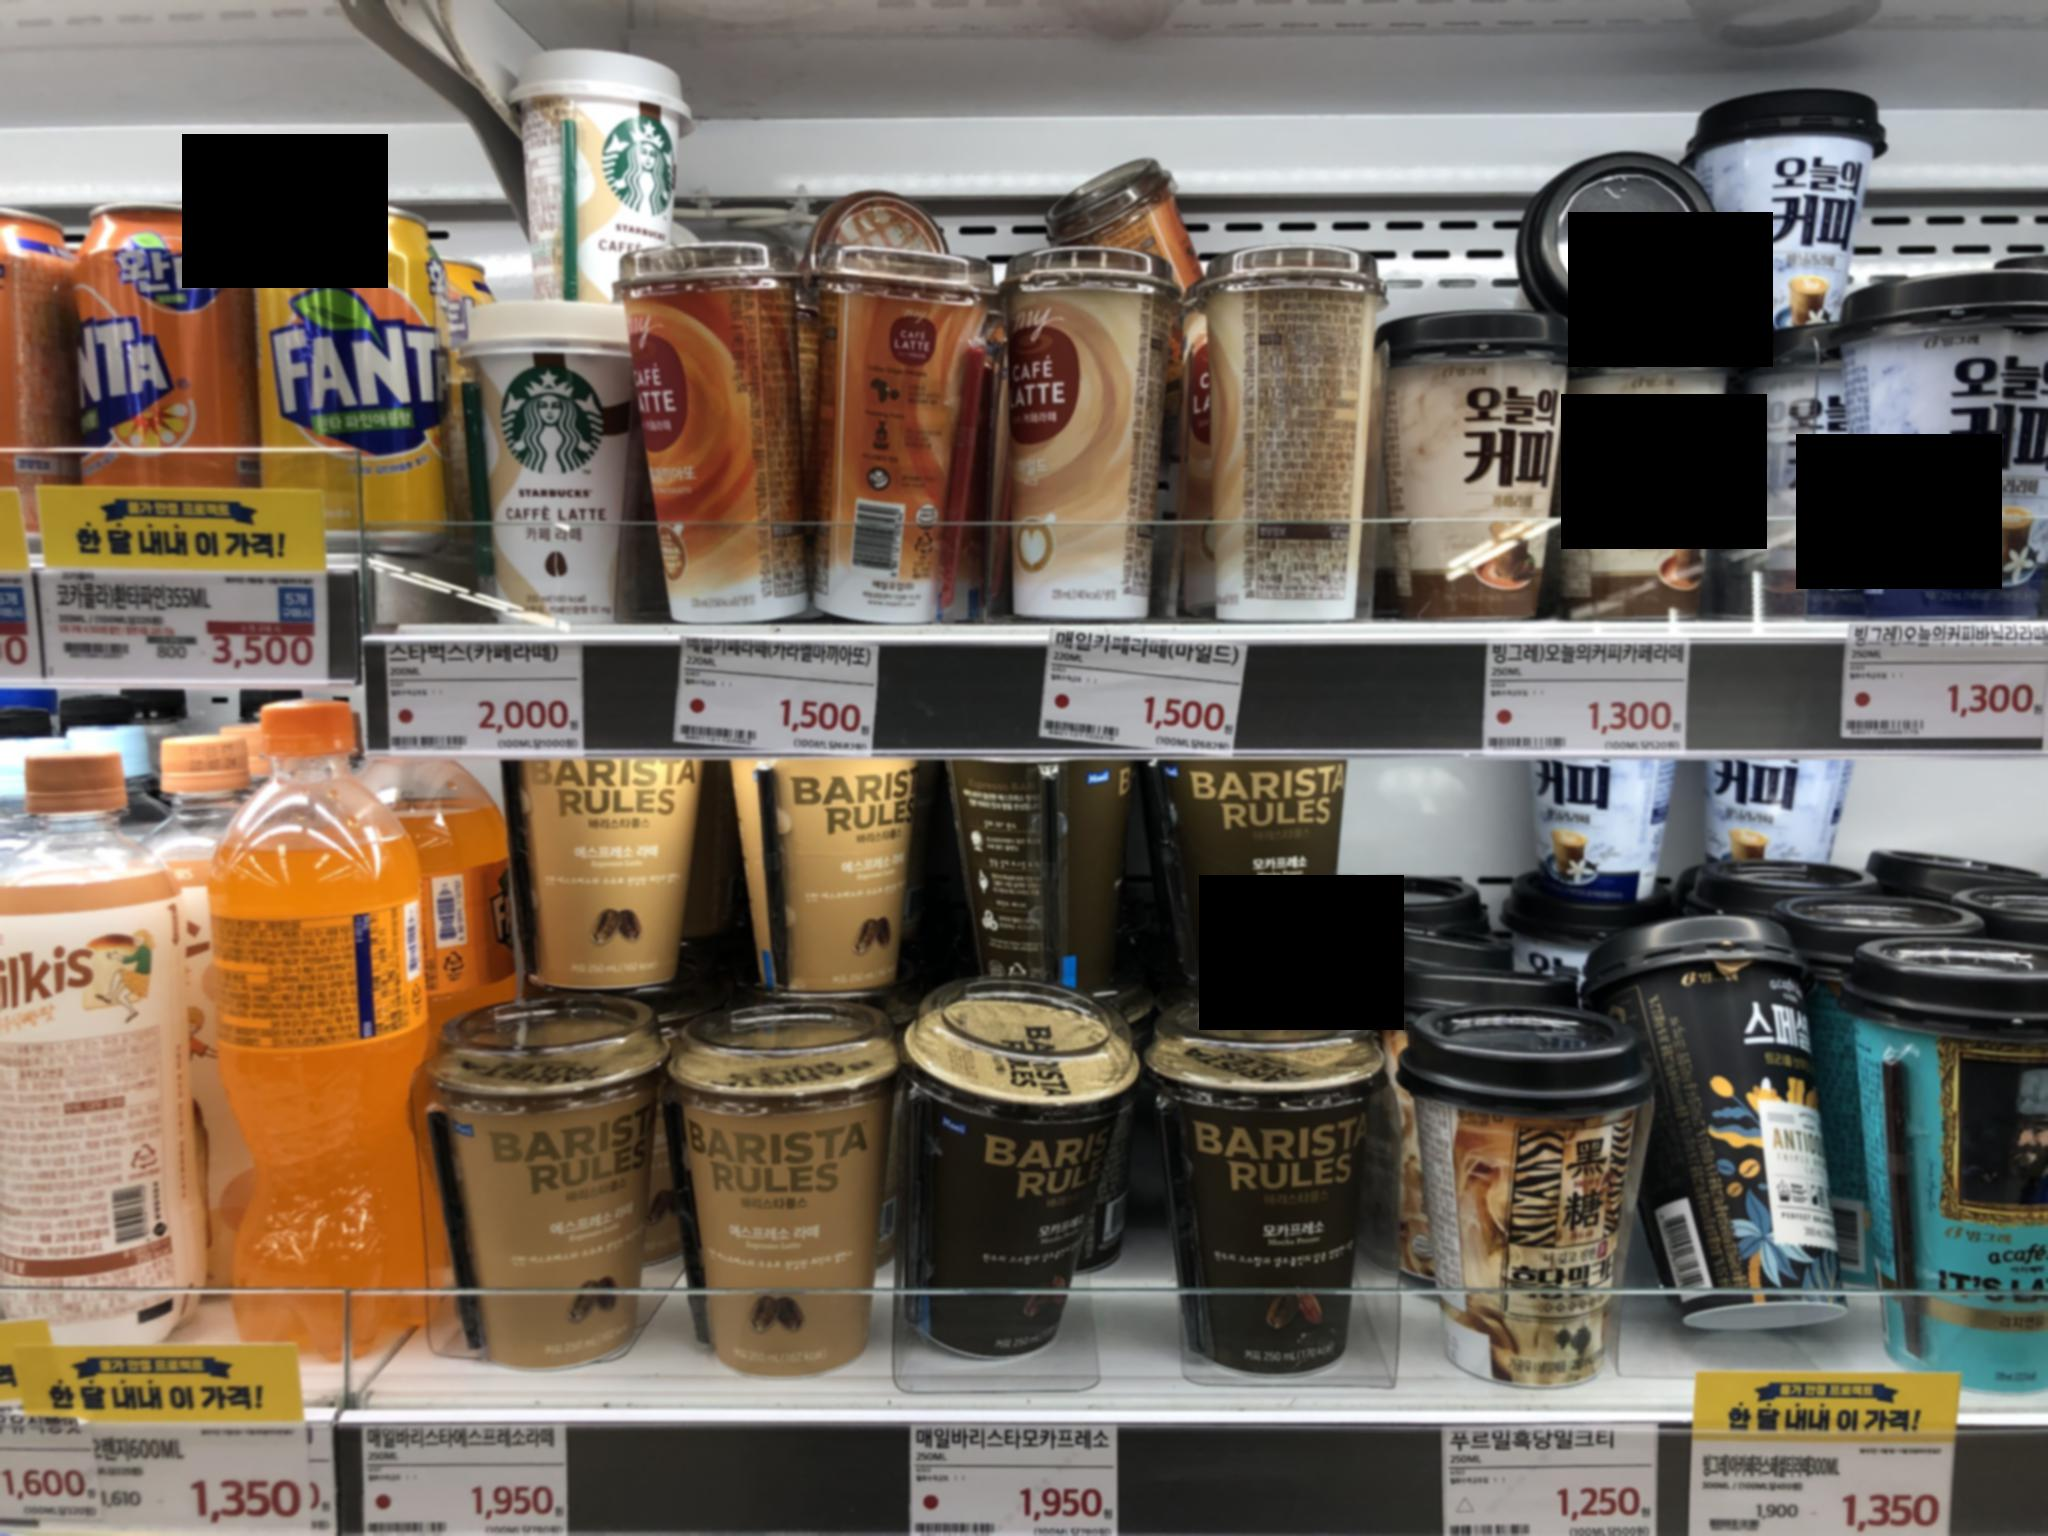baristarules_espressolatte: (677, 1000, 906, 1388), (429, 991, 663, 1347), (524, 736, 710, 1002), (739, 757, 916, 979)
fanta_orange: (68, 192, 229, 494)
